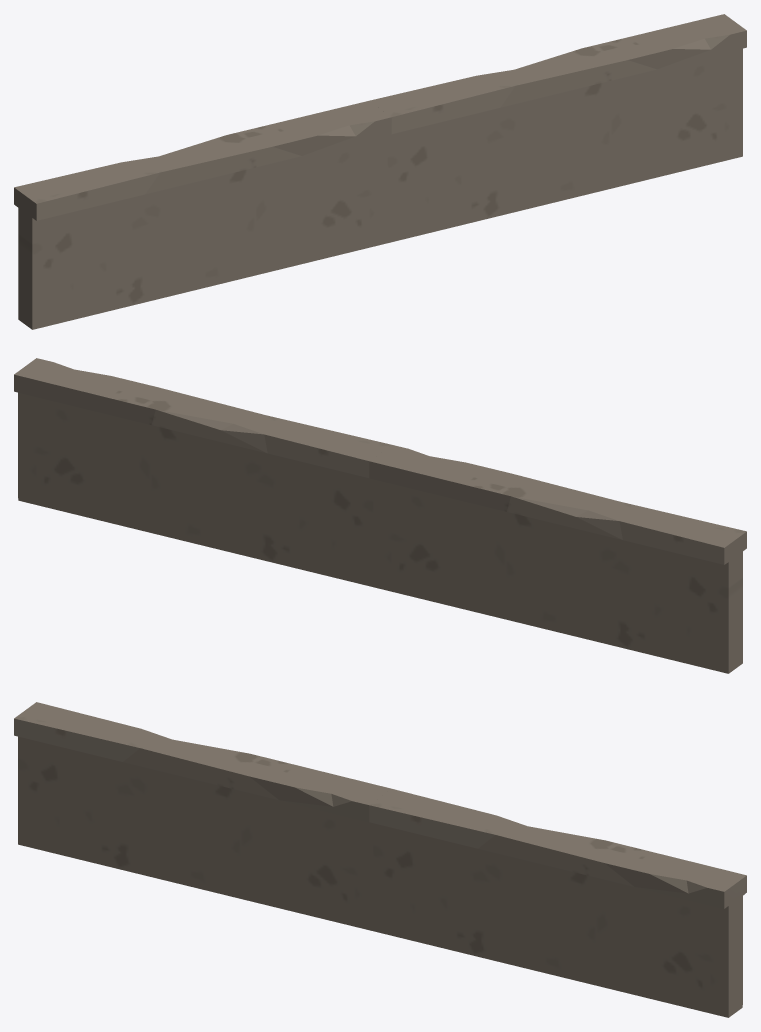
File: forge_balustrade.gltf
3 views of the same model, one above another, from view 1: azimuth 30°, elevation 25°; view 2: azimuth 150°, elevation 25°; view 3: azimuth 330°, elevation 25° (orthographic).
Parts seen in each view (by area): view 1: forge_balustrade; view 2: forge_balustrade; view 3: forge_balustrade.
Boxes of the visible parts, <box> form: forge_balustrade: <box>14,14,746,329</box>; forge_balustrade: <box>14,358,746,673</box>; forge_balustrade: <box>14,702,746,1017</box>.
Bounding box in the file's own units: 5 × 0.8681 × 0.2862.
Materials: 1 (1 with a texture image).
